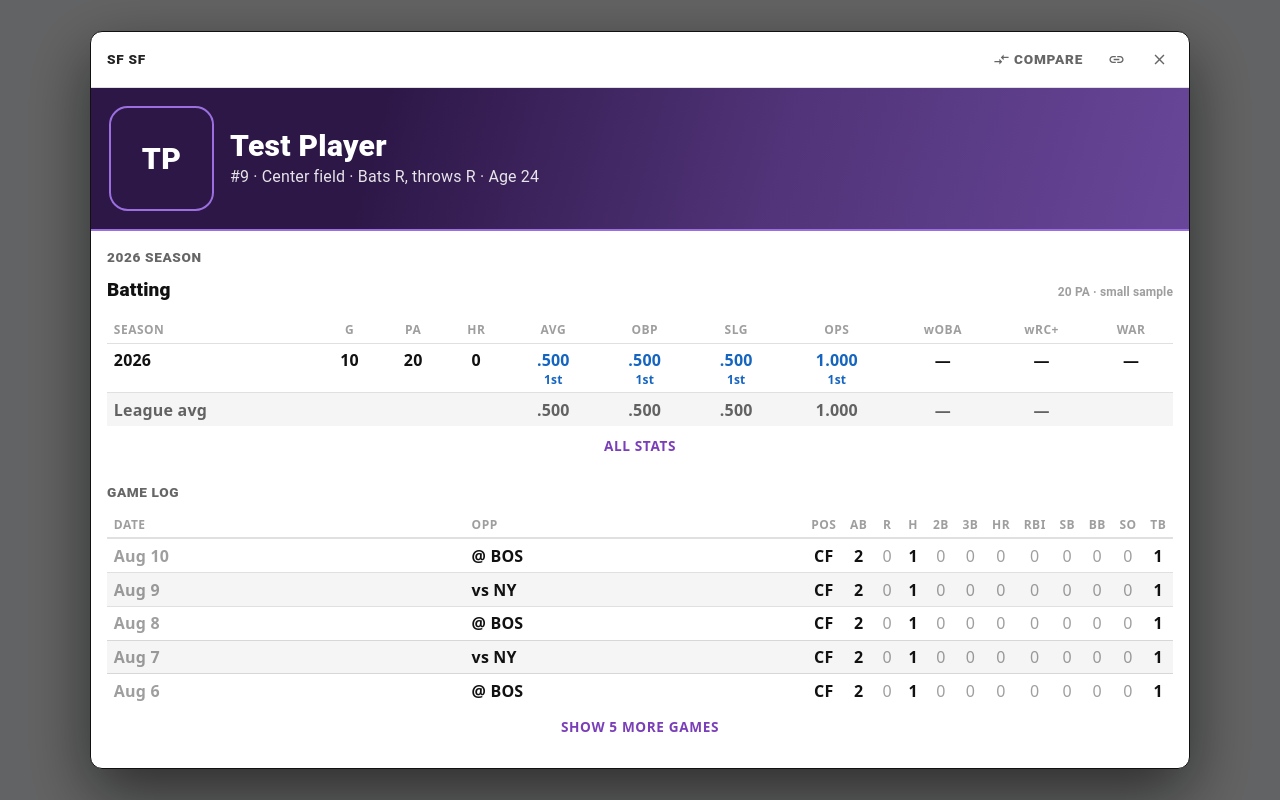
Test: PlayerDetail: the game log › opens on five games and expands to the whole season
Click the button "Show 5 more games" at [640, 728], box [107,711,1173,744]
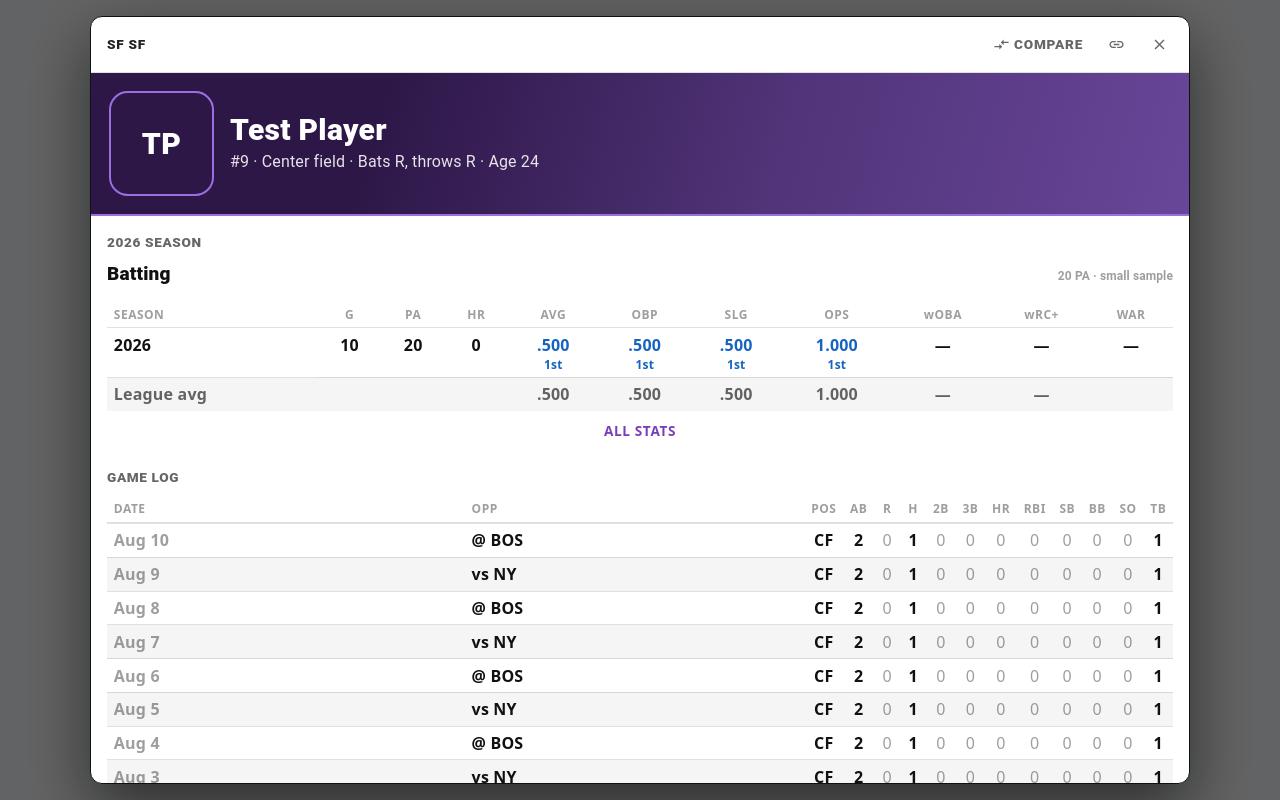
Check: the button "Show 5 more games" is gone
